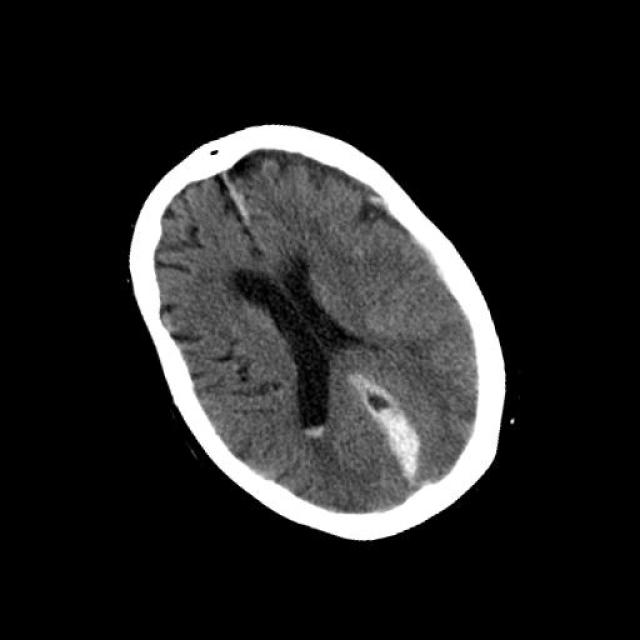Intraventricular: (290, 410, 339, 455)
Subdural: (346, 361, 433, 495)
